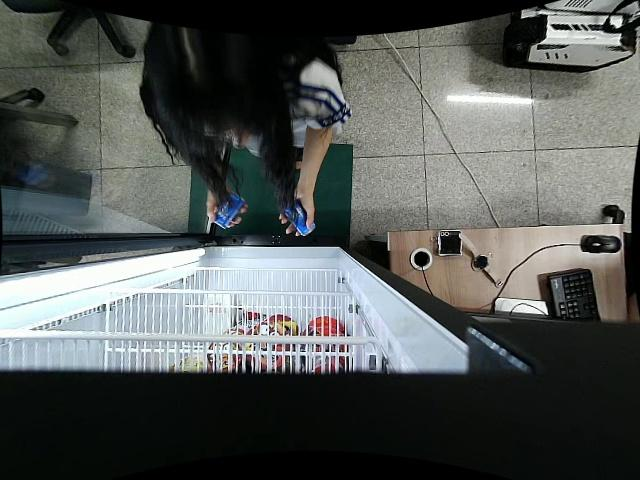00_hand: (279, 192, 315, 239), (206, 193, 250, 229)
15_letsbe: (284, 200, 315, 239), (212, 193, 245, 228)
